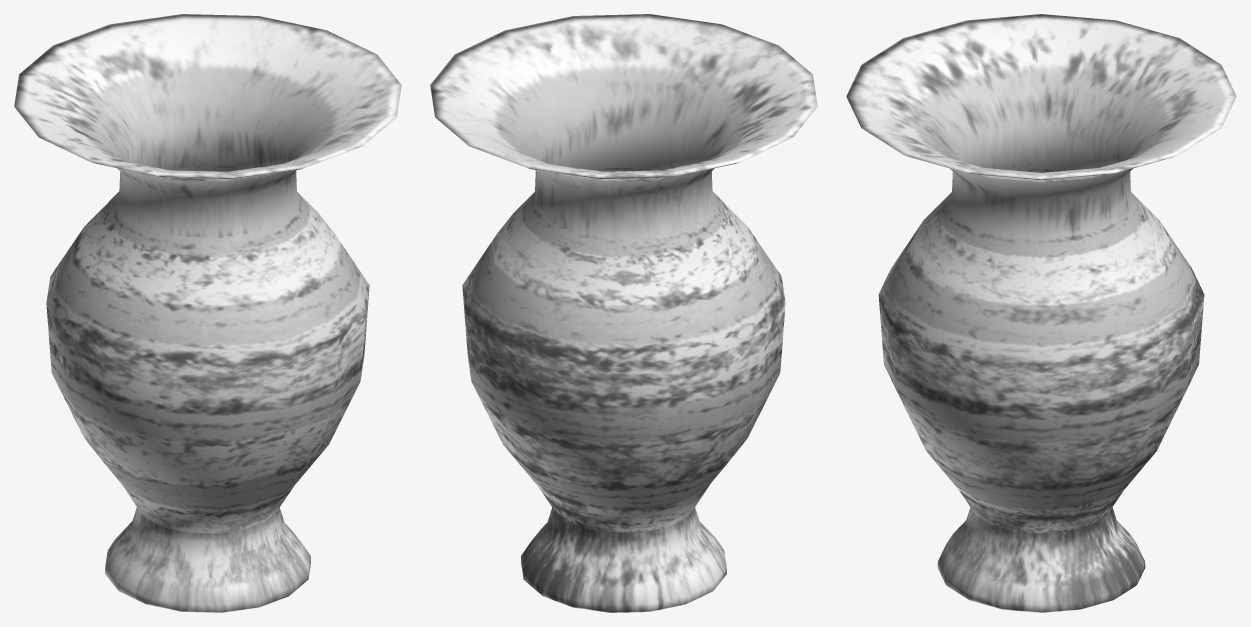
Rendered from vase1.fbx.
3 renders of one model, left to right at view 1: azimuth 30°, elevation 25°; view 2: azimuth 150°, elevation 25°; view 3: azimuth 270°, elevation 25°, orthographic.
Parts seen in each view (by area): view 1: Plane.002; view 2: Plane.002; view 3: Plane.002.
Boxes of the visible parts, left/top/right/bottom form: Plane.002: left=14, top=14, right=401, bottom=612; Plane.002: left=430, top=14, right=817, bottom=612; Plane.002: left=846, top=14, right=1236, bottom=612.
Bounding box in the file's own units: 0.5237 × 0.5237 × 0.7006.
1 material, 1 textured.
